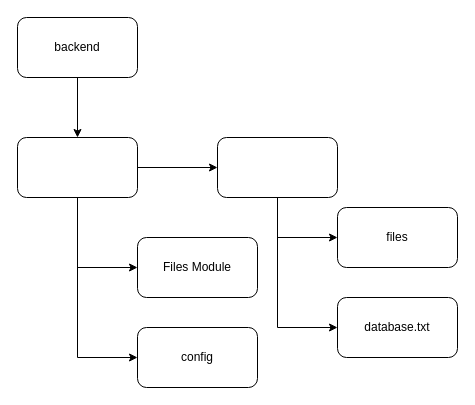
Image size: 475x405. Some labels were removed from this diagram. Each missing label, with the centre of its shape:
database: [277,167]
src: [77,167]
